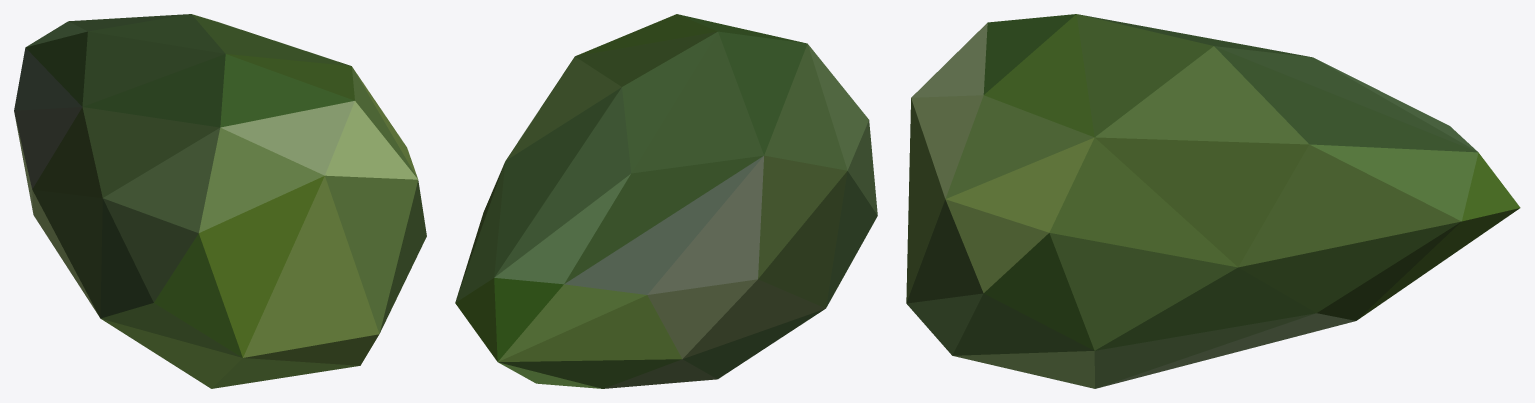
Rendered from Bush_C-DetailB.fbx.
3 views of the same model, side by side, from view 1: azimuth 30°, elevation 25°; view 2: azimuth 150°, elevation 25°; view 3: azimuth 270°, elevation 25° (orthographic). The views are drawn at different scales.
Visible parts, largest first — view 1: Bush_C-DetailB; view 2: Bush_C-DetailB; view 3: Bush_C-DetailB.
Boxes of the visible parts, left/top/right/bottom form: Bush_C-DetailB: left=14, top=14, right=426, bottom=388; Bush_C-DetailB: left=455, top=14, right=877, bottom=388; Bush_C-DetailB: left=906, top=14, right=1520, bottom=388.
Bounding box in the file's own units: 237 × 250 × 405.
